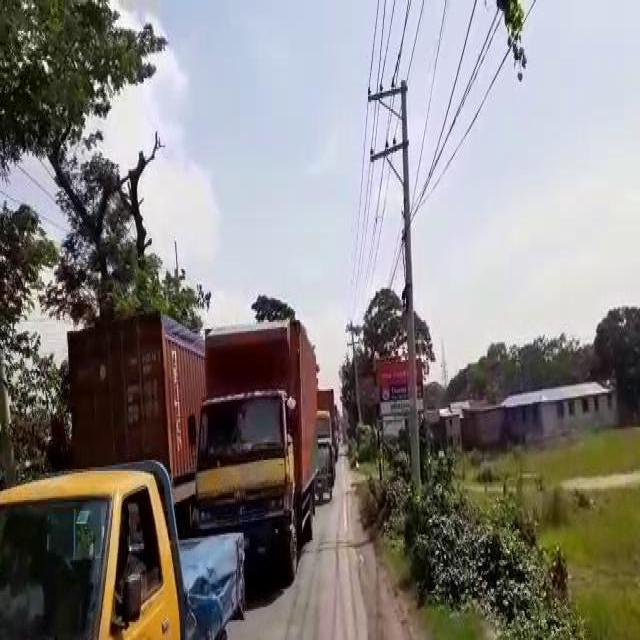11: (1, 458, 242, 638)
18: (198, 320, 316, 582), (66, 317, 206, 483), (316, 386, 336, 436)
Car: (316, 440, 336, 505)
